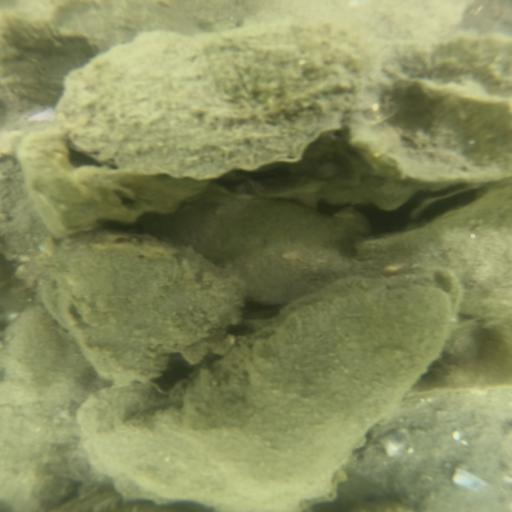Oyster-Closed: (57, 17, 394, 174), (33, 235, 241, 381), (359, 183, 508, 331), (186, 198, 359, 299)
Oyster-Open: (148, 268, 472, 496)
